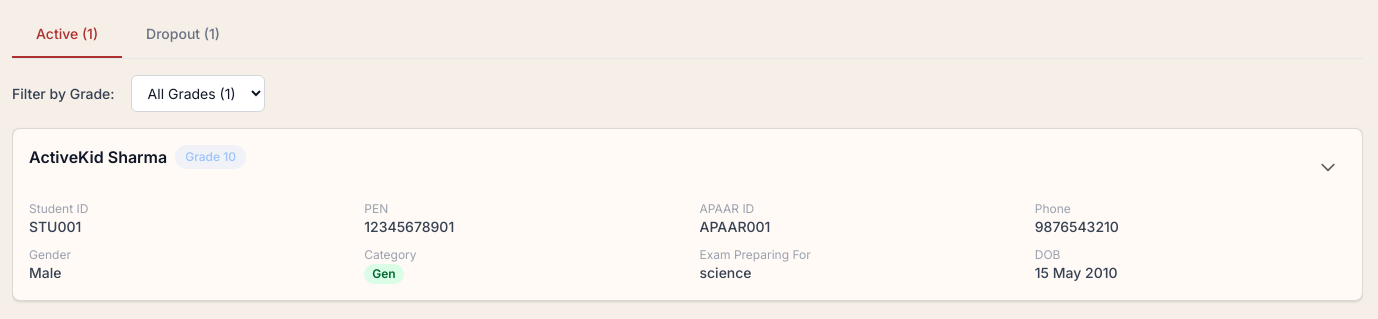
Test: StudentTable - tab switching › switches to dropout tab on click
Step 1. Click the button "Dropout (1)" → {"x": 183, "y": 35}, box left=122, top=12, right=244, bottom=58
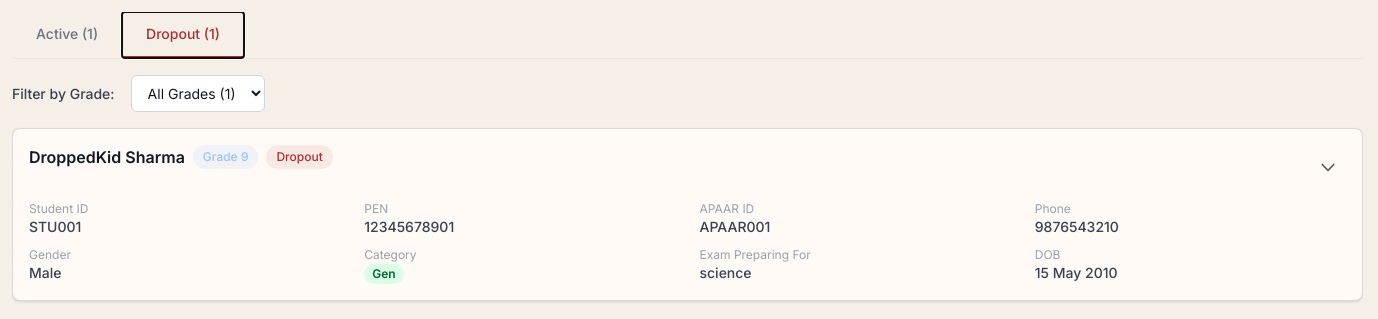
Expected: the heading "DroppedKid Sharma" is shown, left=29, top=145, right=185, bottom=169
Expected: the heading "ActiveKid Sharma" is gone
